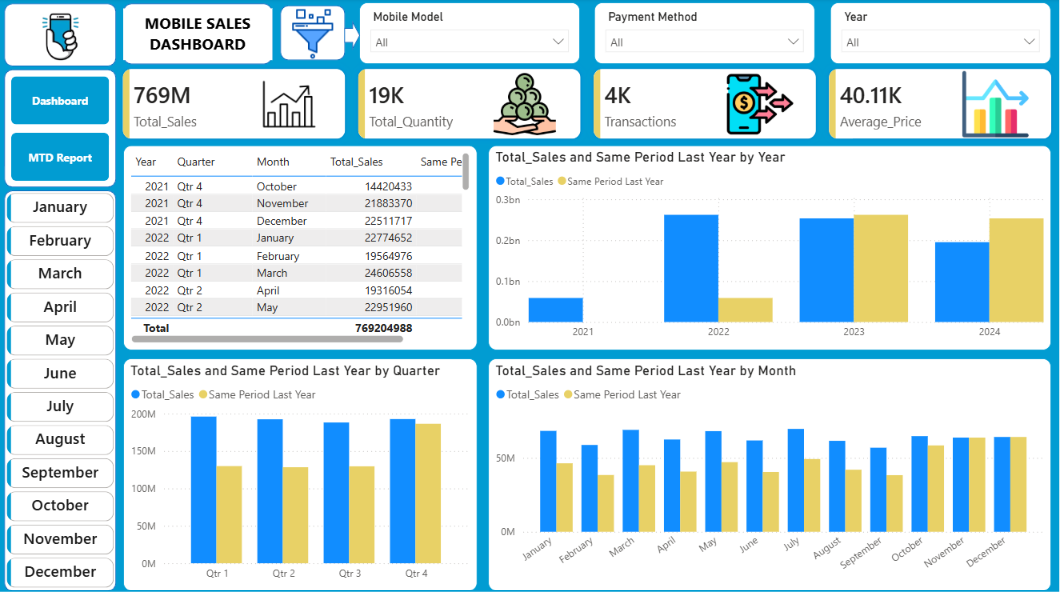

The dashboard page shown, as its layout file describes it:
{"tool":"powerbi","page":{"name":"Same Period Last Year","canvas":[1280,720],"ordinal":2},"visuals":[{"type":"shape","box":[6,6,135.1,76],"z":0},{"type":"image","box":[27.7,13.3,92.9,63.9],"z":1000},{"type":"shape","box":[6,85.7,135.1,142.4],"z":2000},{"type":"shape","box":[6,231.6,135.1,483.8],"z":3000},{"type":"advancedSlicerVisual","fields":{"Values":["Custom_Calender.Date.Variation.Date Hierarchy.Month"]},"box":[6,231.6,135.1,483.8],"z":4000},{"type":"cardVisual","fields":{"Data":["Sales_Data.Total_Sales","Sales_Data.Total_Quantity","Sales_Data.Transactions","Sales_Data.Average_Price"]},"box":[141.2,77.2,1138.9,100.1],"z":5000},{"type":"slicer","fields":{"Values":["Sales_Data.Mobile Model"]},"box":[434.3,4.8,266.6,74.8],"z":6000},{"type":"slicer","fields":{"Values":["Sales_Data.Payment Method"]},"box":[717.8,4.8,266.6,74.8],"z":7000},{"type":"slicer","fields":{"Values":["Custom_Calender.Date.Variation.Date Hierarchy.Year"]},"box":[1002.6,4.8,266.6,74.8],"z":8000},{"type":"shape","box":[339,8.4,78.4,66.4],"z":9000},{"type":"image","box":[339,12.1,78.4,61.5],"z":10000},{"type":"shape","box":[416.2,26.5,19.3,36.2],"z":11000},{"type":"shape","box":[149.6,6,179.8,73.6],"z":12000},{"type":"textbox","box":[149.6,12.1,179.8,62.7],"z":13000},{"type":"tableEx","fields":{"Values":["Custom_Calender.Date.Variation.Date Hierarchy.Year","Custom_Calender.Date.Variation.Date Hierarchy.Quarter","Custom_Calender.Date.Variation.Date Hierarchy.Month","Sales_Data.Total_Sales","Sales_Data.Same Period Last Year"]},"box":[149.6,177.3,427.1,247.3],"z":14000},{"type":"clusteredColumnChart","fields":{"Category":["Custom_Calender.Date.Variation.Date Hierarchy.Year","Custom_Calender.Date.Variation.Date Hierarchy.Quarter"],"Y":["Sales_Data.Total_Sales","Sales_Data.Same Period Last Year"]},"box":[589.9,177.3,679.2,247.3],"z":15000},{"type":"clusteredColumnChart","fields":{"Category":["Custom_Calender.Date.Variation.Date Hierarchy.Year","Custom_Calender.Date.Variation.Date Hierarchy.Quarter"],"Y":["Sales_Data.Total_Sales","Sales_Data.Same Period Last Year"]},"box":[149.6,434.3,427.1,281.1],"z":16000},{"type":"clusteredColumnChart","fields":{"Y":["Sales_Data.Total_Sales","Sales_Data.Same Period Last Year"],"Category":["Custom_Calender.Date.Variation.Date Hierarchy.Year","Custom_Calender.Date.Variation.Date Hierarchy.Quarter","Custom_Calender.Date.Variation.Date Hierarchy.Month","Custom_Calender.Date.Variation.Date Hierarchy.Day"]},"box":[589.9,434.3,679.2,281.1],"z":17000},{"type":"pageNavigator","box":[14.5,94.1,118.2,126.7],"z":17001}]}

Visuals, with their boxes in screenshot pixels (x1, y1, x2, y2), scaled from the page's 1280x720 canvas onto the 1060x592 screenshot:
shape: [5,5,117,67]
image: [23,11,100,63]
shape: [5,70,117,188]
shape: [5,190,117,588]
advancedSlicerVisual - Custom_Calender.Date.Variation.Date Hierarchy.Month: [5,190,117,588]
cardVisual - Sales_Data.Total_Sales x Sales_Data.Total_Quantity: [117,63,1059,146]
slicer - Sales_Data.Mobile Model: [360,4,580,65]
slicer - Sales_Data.Payment Method: [594,4,815,65]
slicer - Custom_Calender.Date.Variation.Date Hierarchy.Year: [830,4,1051,65]
shape: [281,7,346,62]
image: [281,10,346,61]
shape: [345,22,361,52]
shape: [124,5,273,65]
textbox: [124,10,273,62]
tableEx - Custom_Calender.Date.Variation.Date Hierarchy.Year x Custom_Calender.Date.Variation.Date Hierarchy.Quarter: [124,146,478,349]
clusteredColumnChart - Custom_Calender.Date.Variation.Date Hierarchy.Year x Custom_Calender.Date.Variation.Date Hierarchy.Quarter: [489,146,1051,349]
clusteredColumnChart - Custom_Calender.Date.Variation.Date Hierarchy.Year x Custom_Calender.Date.Variation.Date Hierarchy.Quarter: [124,357,478,588]
clusteredColumnChart - Sales_Data.Total_Sales x Sales_Data.Same Period Last Year: [489,357,1051,588]
pageNavigator: [12,77,110,182]
